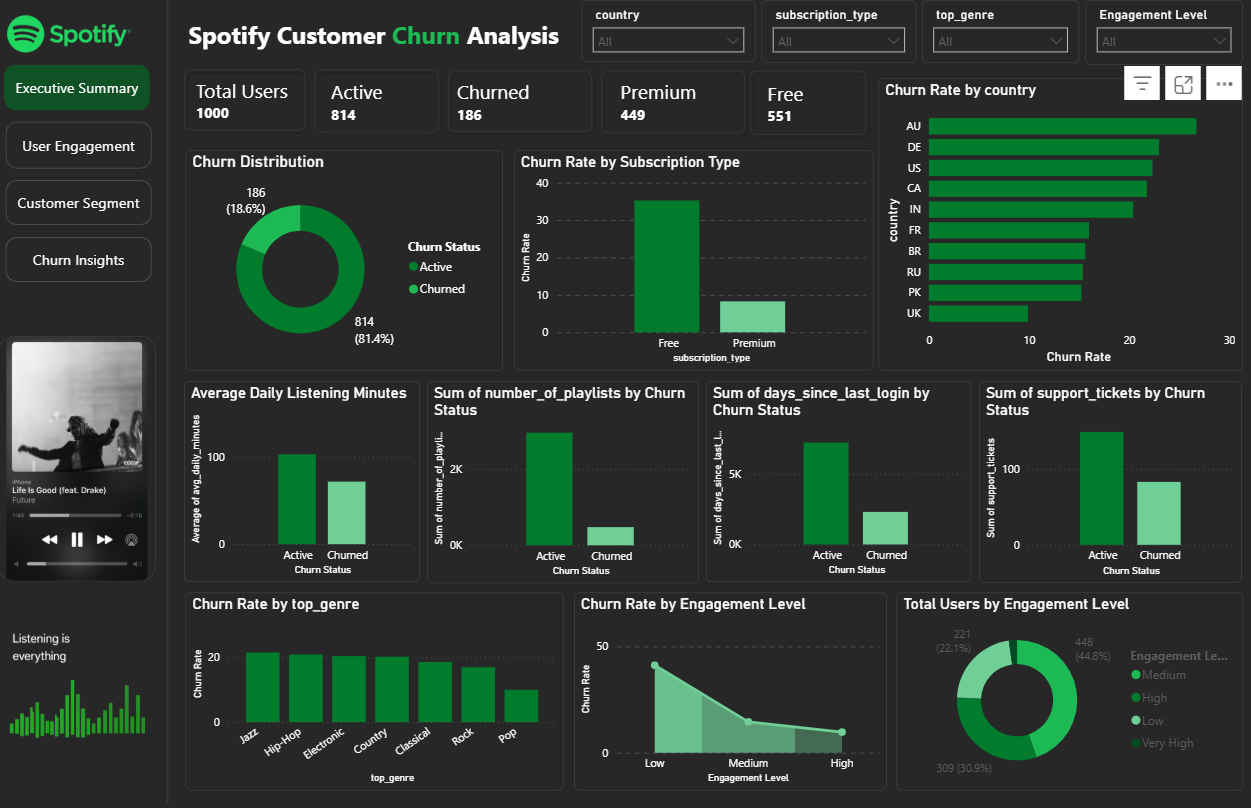

Layout of this report page (visuals, bound fields, positions):
{"tool":"powerbi","page":{"name":"Page 1","canvas":[1400,900],"ordinal":0},"visuals":[{"type":"image","box":[8.8,0,161.2,88.8],"z":0},{"type":"textbox","box":[216.7,21.7,471.7,45],"z":1000},{"type":"shape","box":[211.8,78.8,145,78.3],"z":1000,"group":"g1"},{"type":"shape","box":[16.7,77.8,162.2,51.1],"z":2000},{"type":"textbox","box":[225.1,86.5,163,64],"z":3000,"group":"g1"},{"type":"shape","box":[17.5,141.8,162.5,52.5],"z":3000},{"type":"shape","box":[17.5,270,162.5,50],"z":4000},{"type":"shape","box":[17.5,207.1,162.5,50],"z":5000},{"type":"shape","box":[191.7,0,13.3,900],"z":6000},{"type":"donutChart","title":"Churn Distribution","fields":{"Category":["spotify_churn_dataset.Churn Status"],"Y":["CountNonNull(spotify_churn_dataset.user_id)"]},"box":[217.5,172.5,352.5,245],"z":7000},{"type":"columnChart","title":"Churn Rate by Subscription Type","fields":{"Category":["spotify_churn_dataset.subscription_type"],"Y":["spotify_churn_dataset.Churn Rate"]},"box":[582.7,172.7,399.1,244.5],"z":8000},{"type":"shape","box":[357.1,78.2,148.2,80.6],"z":9000,"group":"g2"},{"type":"barChart","fields":{"Category":["spotify_churn_dataset.country"],"Y":["spotify_churn_dataset.Churn Rate"]},"box":[989.1,92.7,404.5,325.5],"z":9000},{"type":"clusteredColumnChart","title":"Average Daily Listening Minutes","fields":{"Category":["spotify_churn_dataset.Churn Status"],"Y":["Avg(spotify_churn_dataset.avg_daily_minutes)"]},"box":[216.7,430,261.7,223.3],"z":10000},{"type":"textbox","box":[375.7,88.3,130.6,68.9],"z":11000,"group":"g2"},{"type":"columnChart","fields":{"Y":["Sum(spotify_churn_dataset.number_of_playlists)"],"Category":["spotify_churn_dataset.Churn Status"]},"box":[486.8,430,301.8,224.5],"z":11000},{"type":"columnChart","fields":{"Y":["Sum(spotify_churn_dataset.days_since_last_login)"],"Category":["spotify_churn_dataset.Churn Status"]},"box":[797,430,294.5,223.6],"z":12000},{"type":"shape","box":[674.3,79.8,170,80],"z":13000,"group":"g5"},{"type":"columnChart","fields":{"Y":["Sum(spotify_churn_dataset.support_tickets)"],"Category":["spotify_churn_dataset.Churn Status"]},"box":[1100,430,292,224],"z":13000},{"type":"textbox","box":[514.8,88.4,160,65.6],"z":14000,"group":"g3"},{"type":"clusteredColumnChart","fields":{"Category":["spotify_churn_dataset.top_genre"],"Y":["spotify_churn_dataset.Churn Rate"]},"box":[217.5,665,420,220],"z":14000},{"type":"shape","box":[505.1,80.5,170,78.2],"z":15000,"group":"g3"},{"type":"lineChart","fields":{"Category":["spotify_churn_dataset.Engagement Level"],"Y":["spotify_churn_dataset.Churn Rate"]},"box":[650,665,347.5,220],"z":15000},{"type":"textbox","box":[696.2,88.7,155.9,63.5],"z":16000,"group":"g5"},{"type":"donutChart","fields":{"Y":["spotify_churn_dataset.Total Users"],"Category":["spotify_churn_dataset.Engagement Level"]},"box":[1007.5,665,385,220],"z":16000},{"type":"slicer","fields":{"Values":["spotify_churn_dataset.country"]},"box":[658.3,6.7,193.3,68.3],"z":17000},{"type":"shape","box":[840.7,80.3,140,81.7],"z":17000,"group":"g4"},{"type":"slicer","fields":{"Values":["spotify_churn_dataset.subscription_type"]},"box":[858.4,6.7,171.7,70],"z":18000},{"type":"textbox","box":[860.9,89.9,137.1,62.9],"z":18000,"group":"g4"},{"type":"slicer","fields":{"Values":["spotify_churn_dataset.top_genre"]},"box":[1036.9,7.3,174.5,70],"z":19000},{"type":"slicer","fields":{"Values":["spotify_churn_dataset.Engagement Level"]},"box":[1218.2,6.4,174.5,71.8],"z":20000},{"type":"group","id":"g1","title":"Group 1","box":[211.8,78.8,176.5,78.2],"z":21000},{"type":"group","id":"g2","title":"Group 2","box":[357.1,78.2,148.8,80.6],"z":22000},{"type":"group","id":"g3","title":"Group 3","box":[505.1,80.5,170,78.2],"z":23000},{"type":"group","id":"g4","title":"Group 4","box":[840.7,80.3,157.4,81.7],"z":24000},{"type":"group","id":"g5","title":"Group 5","box":[674.3,79.8,177.7,80],"z":25000},{"type":"image","box":[10,380,175,272.5],"z":26000},{"type":"image","box":[10,697.5,176.2,155],"z":27000}]}

Visuals, with their boxes in screenshot pixels (x1, y1, x2, y2), scaled from the page's 1400x900 canvas onto the 1251x808 screenshot:
image: pyautogui.locateOnScreen(8, 0, 152, 80)
textbox: pyautogui.locateOnScreen(194, 19, 615, 60)
shape: pyautogui.locateOnScreen(189, 71, 319, 141)
shape: pyautogui.locateOnScreen(15, 70, 160, 116)
textbox: pyautogui.locateOnScreen(201, 78, 347, 135)
shape: pyautogui.locateOnScreen(16, 127, 161, 174)
shape: pyautogui.locateOnScreen(16, 242, 161, 287)
shape: pyautogui.locateOnScreen(16, 186, 161, 231)
shape: pyautogui.locateOnScreen(171, 0, 183, 807)
"Churn Distribution" donutChart: pyautogui.locateOnScreen(194, 155, 509, 375)
"Churn Rate by Subscription Type" columnChart: pyautogui.locateOnScreen(521, 155, 877, 375)
shape: pyautogui.locateOnScreen(319, 70, 452, 143)
barChart - spotify_churn_dataset.country x spotify_churn_dataset.Churn Rate: pyautogui.locateOnScreen(884, 83, 1245, 375)
"Average Daily Listening Minutes" clusteredColumnChart: pyautogui.locateOnScreen(194, 386, 427, 587)
textbox: pyautogui.locateOnScreen(336, 79, 452, 141)
columnChart - Sum(spotify_churn_dataset.number_of_playlists) x spotify_churn_dataset.Churn Status: pyautogui.locateOnScreen(435, 386, 705, 588)
columnChart - Sum(spotify_churn_dataset.days_since_last_login) x spotify_churn_dataset.Churn Status: pyautogui.locateOnScreen(712, 386, 975, 587)
shape: pyautogui.locateOnScreen(603, 72, 754, 143)
columnChart - Sum(spotify_churn_dataset.support_tickets) x spotify_churn_dataset.Churn Status: pyautogui.locateOnScreen(983, 386, 1244, 587)
textbox: pyautogui.locateOnScreen(460, 79, 603, 138)
clusteredColumnChart - spotify_churn_dataset.top_genre x spotify_churn_dataset.Churn Rate: pyautogui.locateOnScreen(194, 597, 570, 795)
shape: pyautogui.locateOnScreen(451, 72, 603, 142)
lineChart - spotify_churn_dataset.Engagement Level x spotify_churn_dataset.Churn Rate: pyautogui.locateOnScreen(581, 597, 891, 795)
textbox: pyautogui.locateOnScreen(622, 80, 761, 137)
donutChart - spotify_churn_dataset.Total Users x spotify_churn_dataset.Engagement Level: pyautogui.locateOnScreen(900, 597, 1244, 795)
slicer - spotify_churn_dataset.country: pyautogui.locateOnScreen(588, 6, 761, 67)
shape: pyautogui.locateOnScreen(751, 72, 876, 145)
slicer - spotify_churn_dataset.subscription_type: pyautogui.locateOnScreen(767, 6, 920, 69)
textbox: pyautogui.locateOnScreen(769, 81, 892, 137)
slicer - spotify_churn_dataset.top_genre: pyautogui.locateOnScreen(927, 7, 1082, 69)
slicer - spotify_churn_dataset.Engagement Level: pyautogui.locateOnScreen(1089, 6, 1244, 70)
"Group 1" group: pyautogui.locateOnScreen(189, 71, 347, 141)
"Group 2" group: pyautogui.locateOnScreen(319, 70, 452, 143)
"Group 3" group: pyautogui.locateOnScreen(451, 72, 603, 142)
"Group 4" group: pyautogui.locateOnScreen(751, 72, 892, 145)
"Group 5" group: pyautogui.locateOnScreen(603, 72, 761, 143)
image: pyautogui.locateOnScreen(9, 341, 165, 586)
image: pyautogui.locateOnScreen(9, 626, 166, 765)
